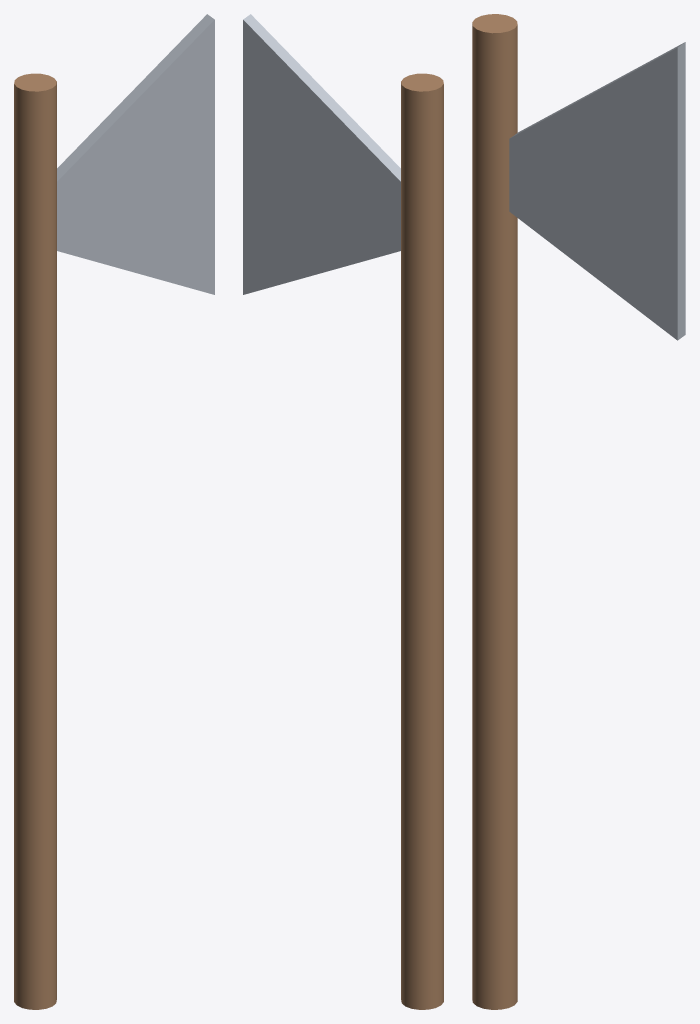
File: axe.glb
3 renders of one model, left to right at view 1: azimuth 30°, elevation 25°; view 2: azimuth 150°, elevation 25°; view 3: azimuth 330°, elevation 25°, orthographic. The views are drawn at different scales.
Visible parts, largest first — view 1: cyl, plate; view 2: cyl, plate; view 3: cyl, plate.
Boxes of the visible parts, bbox=[...] form: cyl: bbox=[14, 73, 56, 1009]; plate: bbox=[57, 14, 214, 294]; cyl: bbox=[401, 73, 443, 1009]; plate: bbox=[243, 14, 400, 294]; cyl: bbox=[472, 14, 517, 1009]; plate: bbox=[509, 42, 685, 340].
Size of the model in its own units: 0.177 by 0.82 by 0.034.
